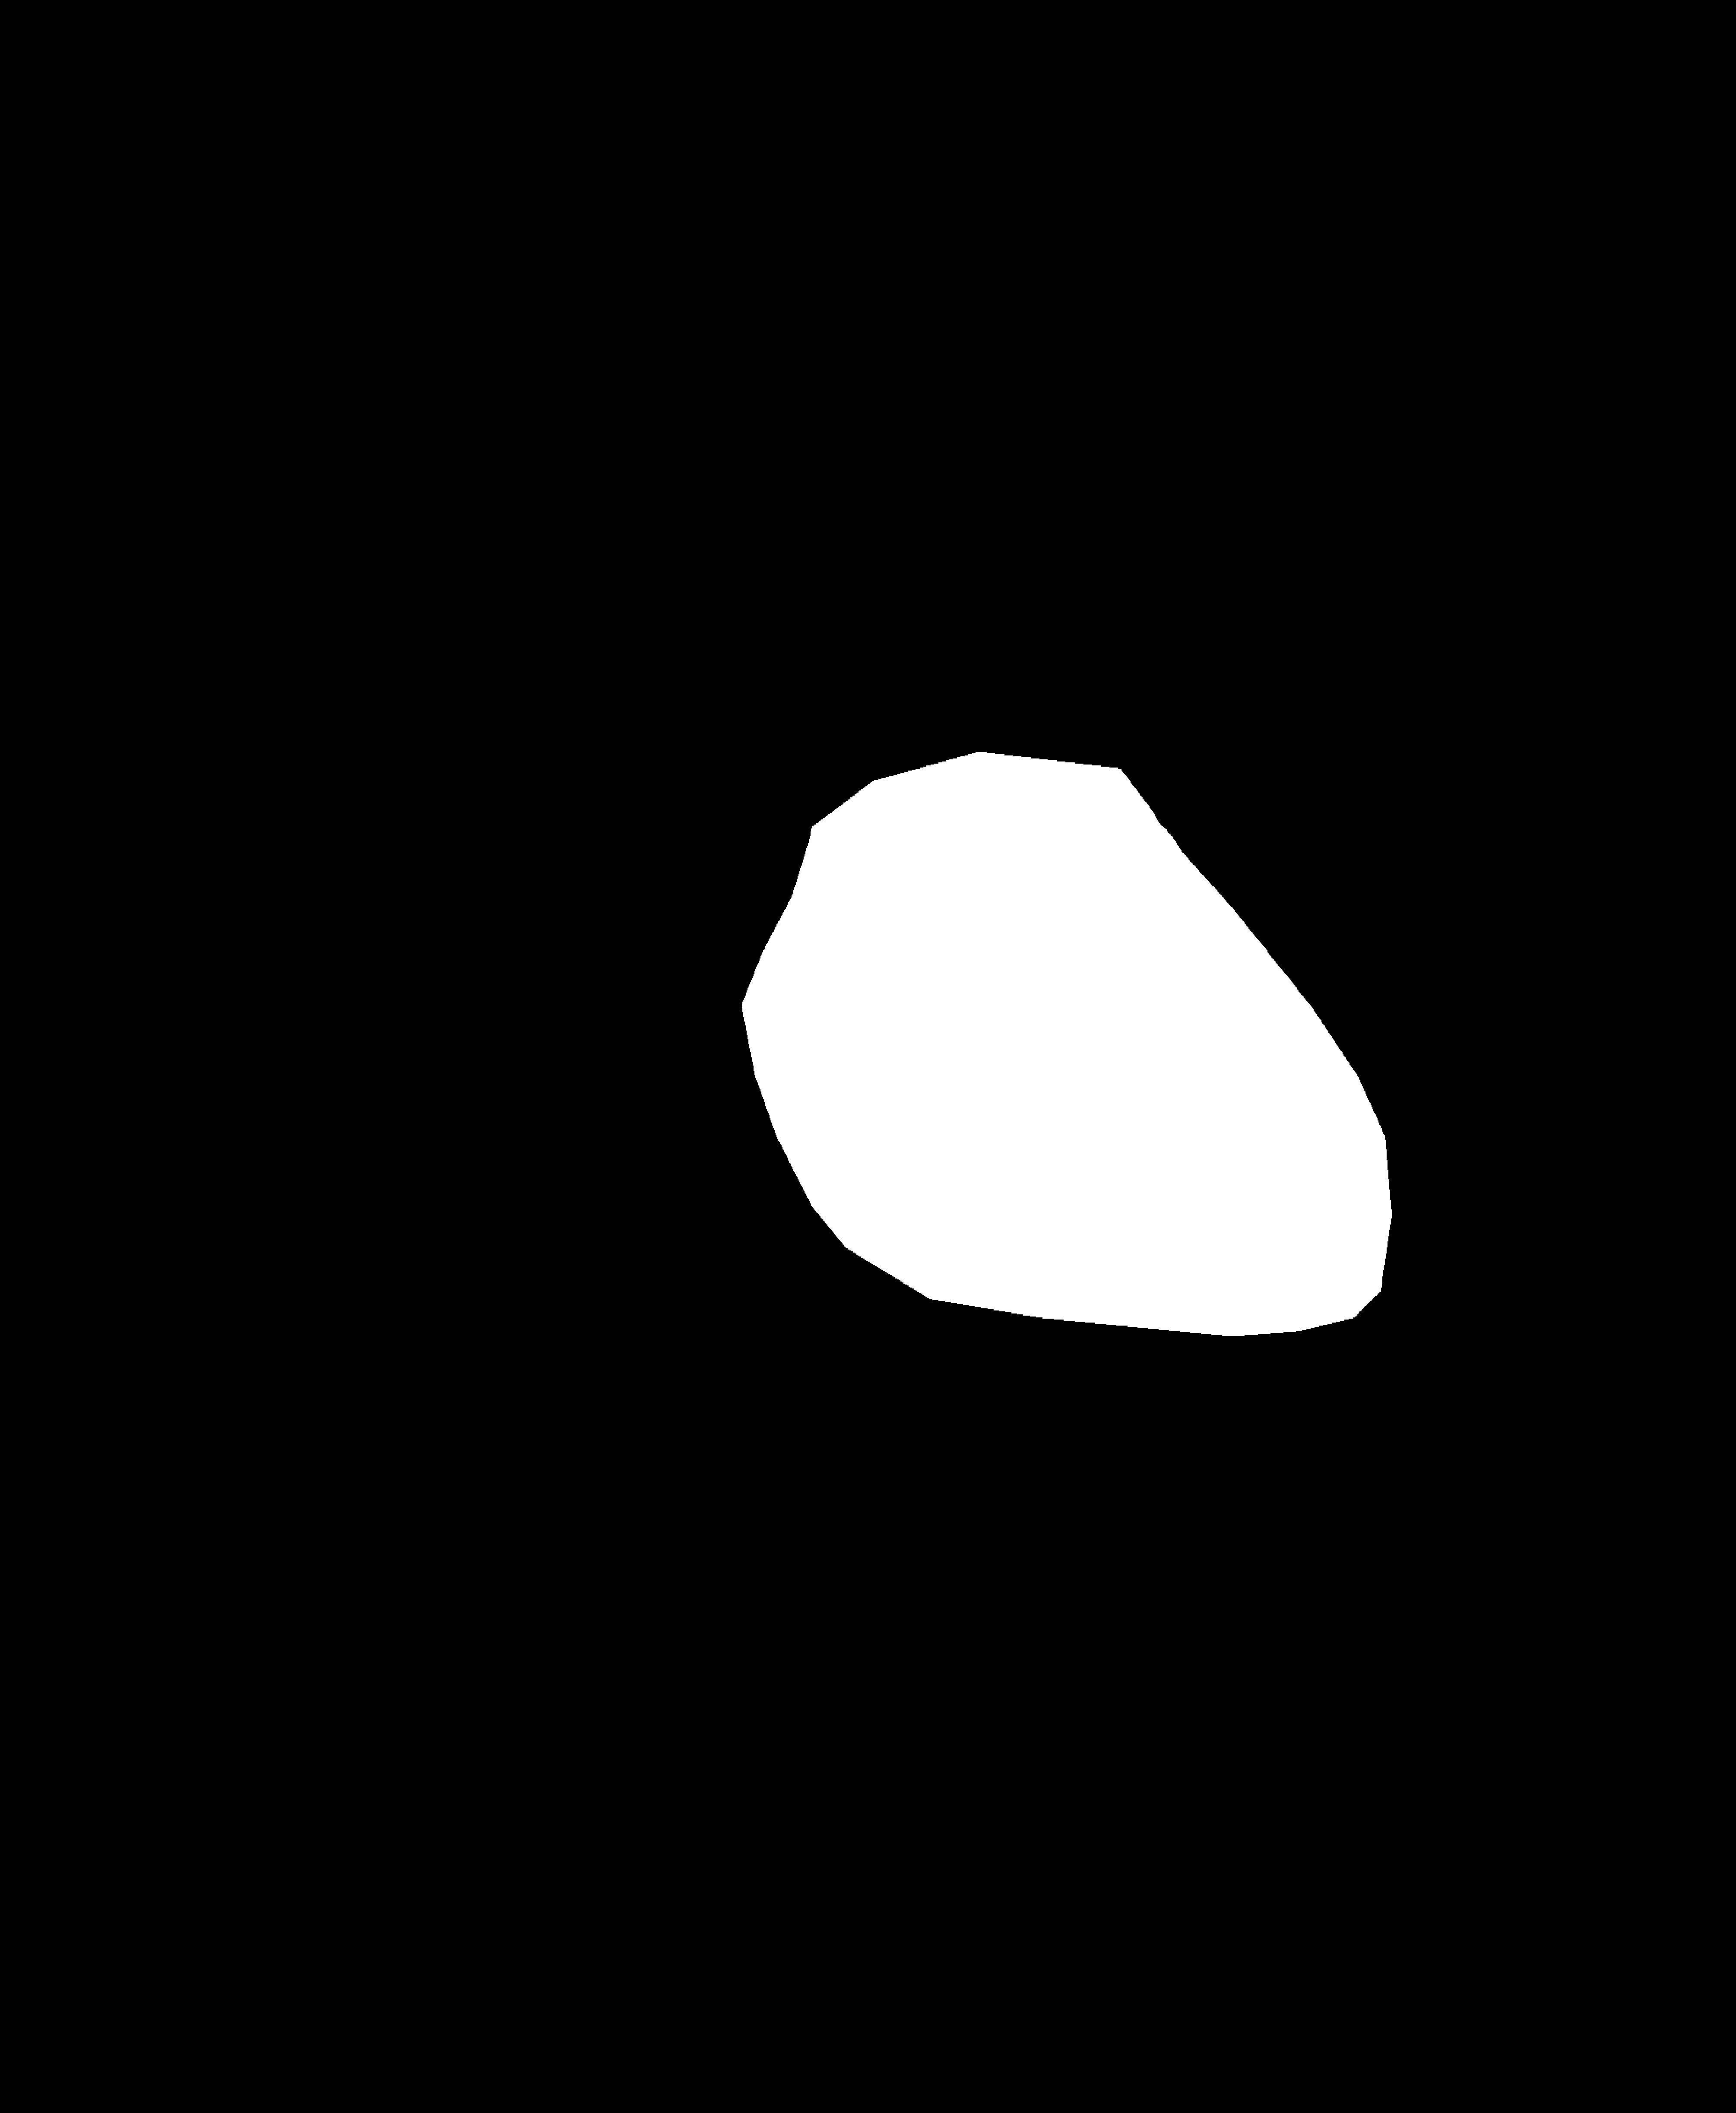heart: (739, 877, 1392, 1343)
left_lung: (190, 209, 836, 1534)
right_lung: (971, 161, 1624, 1564)
